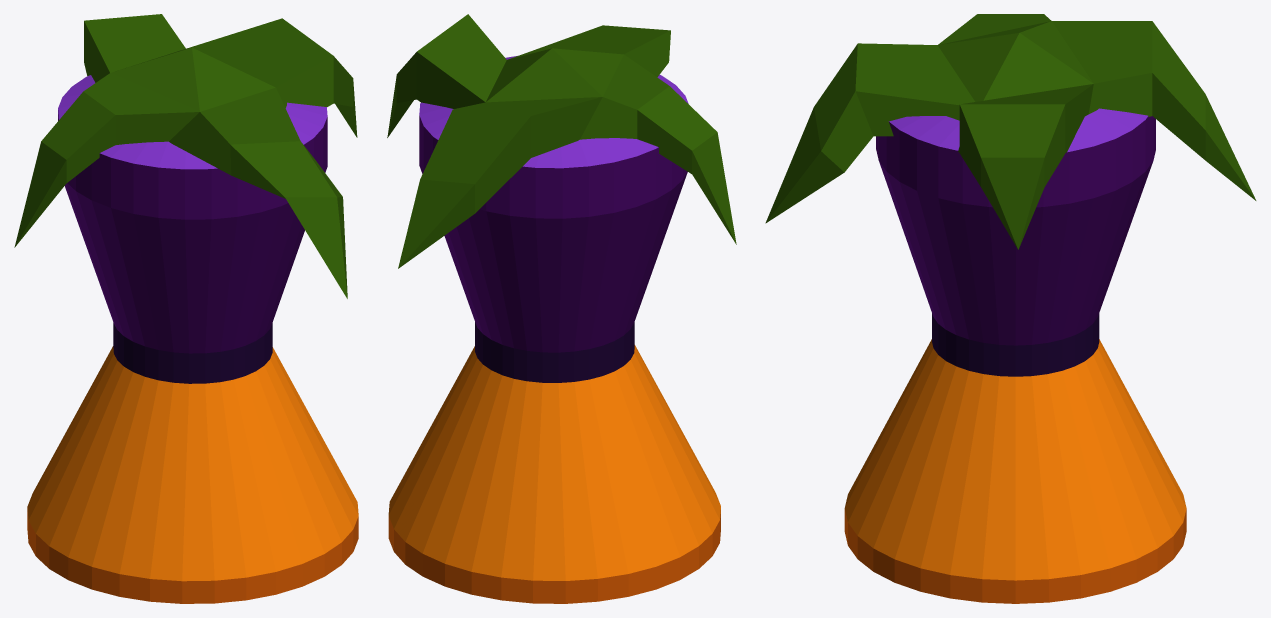
The model's file is Vase.glb.
3 renders of one model, left to right at view 1: azimuth 30°, elevation 25°; view 2: azimuth 150°, elevation 25°; view 3: azimuth 270°, elevation 25°, orthographic. The views are drawn at different scales.
Parts seen in each view (by area): view 1: Base, Plant; view 2: Base, Plant; view 3: Base, Plant.
Part boxes in pixels (bbox=[...]): Base: bbox=[27, 75, 358, 603]; Plant: bbox=[14, 14, 357, 298]; Base: bbox=[388, 56, 720, 603]; Plant: bbox=[387, 14, 736, 268]; Base: bbox=[844, 108, 1186, 603]; Plant: bbox=[765, 14, 1256, 249].
Size of the model in its own units: 2.4 by 3.22 by 2.88.
Materials: 2 (2 with a texture image).
